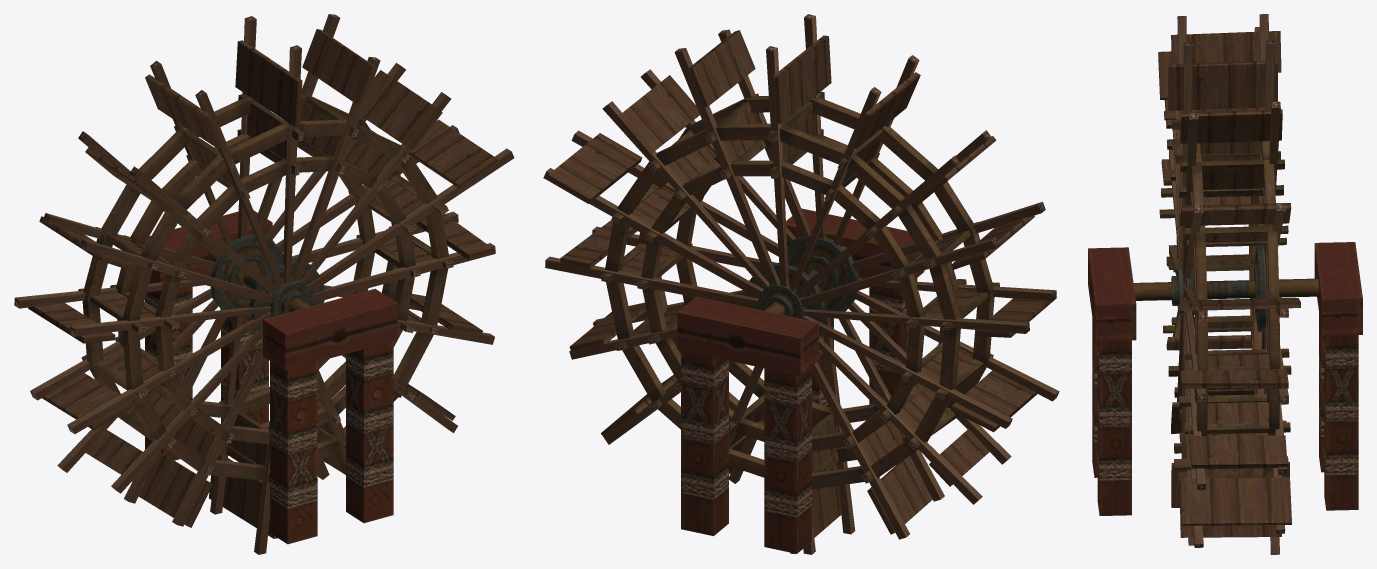
The model's file is Yland1_bj_01 Yland1.FBX.
The picture shows the model from 3 angles, left to right: view 1: azimuth 30°, elevation 25°; view 2: azimuth 150°, elevation 25°; view 3: azimuth 270°, elevation 25°; orthographic projection. The views are drawn at different scales.
Visible parts, largest first — view 1: Yland1_bj_01 Yland1; view 2: Yland1_bj_01 Yland1; view 3: Yland1_bj_01 Yland1.
Part boxes in pixels (x1,y1,x2,y2): Yland1_bj_01 Yland1: (14,14,514,554); Yland1_bj_01 Yland1: (543,14,1059,554); Yland1_bj_01 Yland1: (1088,14,1362,554).
Bounding box in the file's own units: 11.75 × 11.83 × 5.97.
